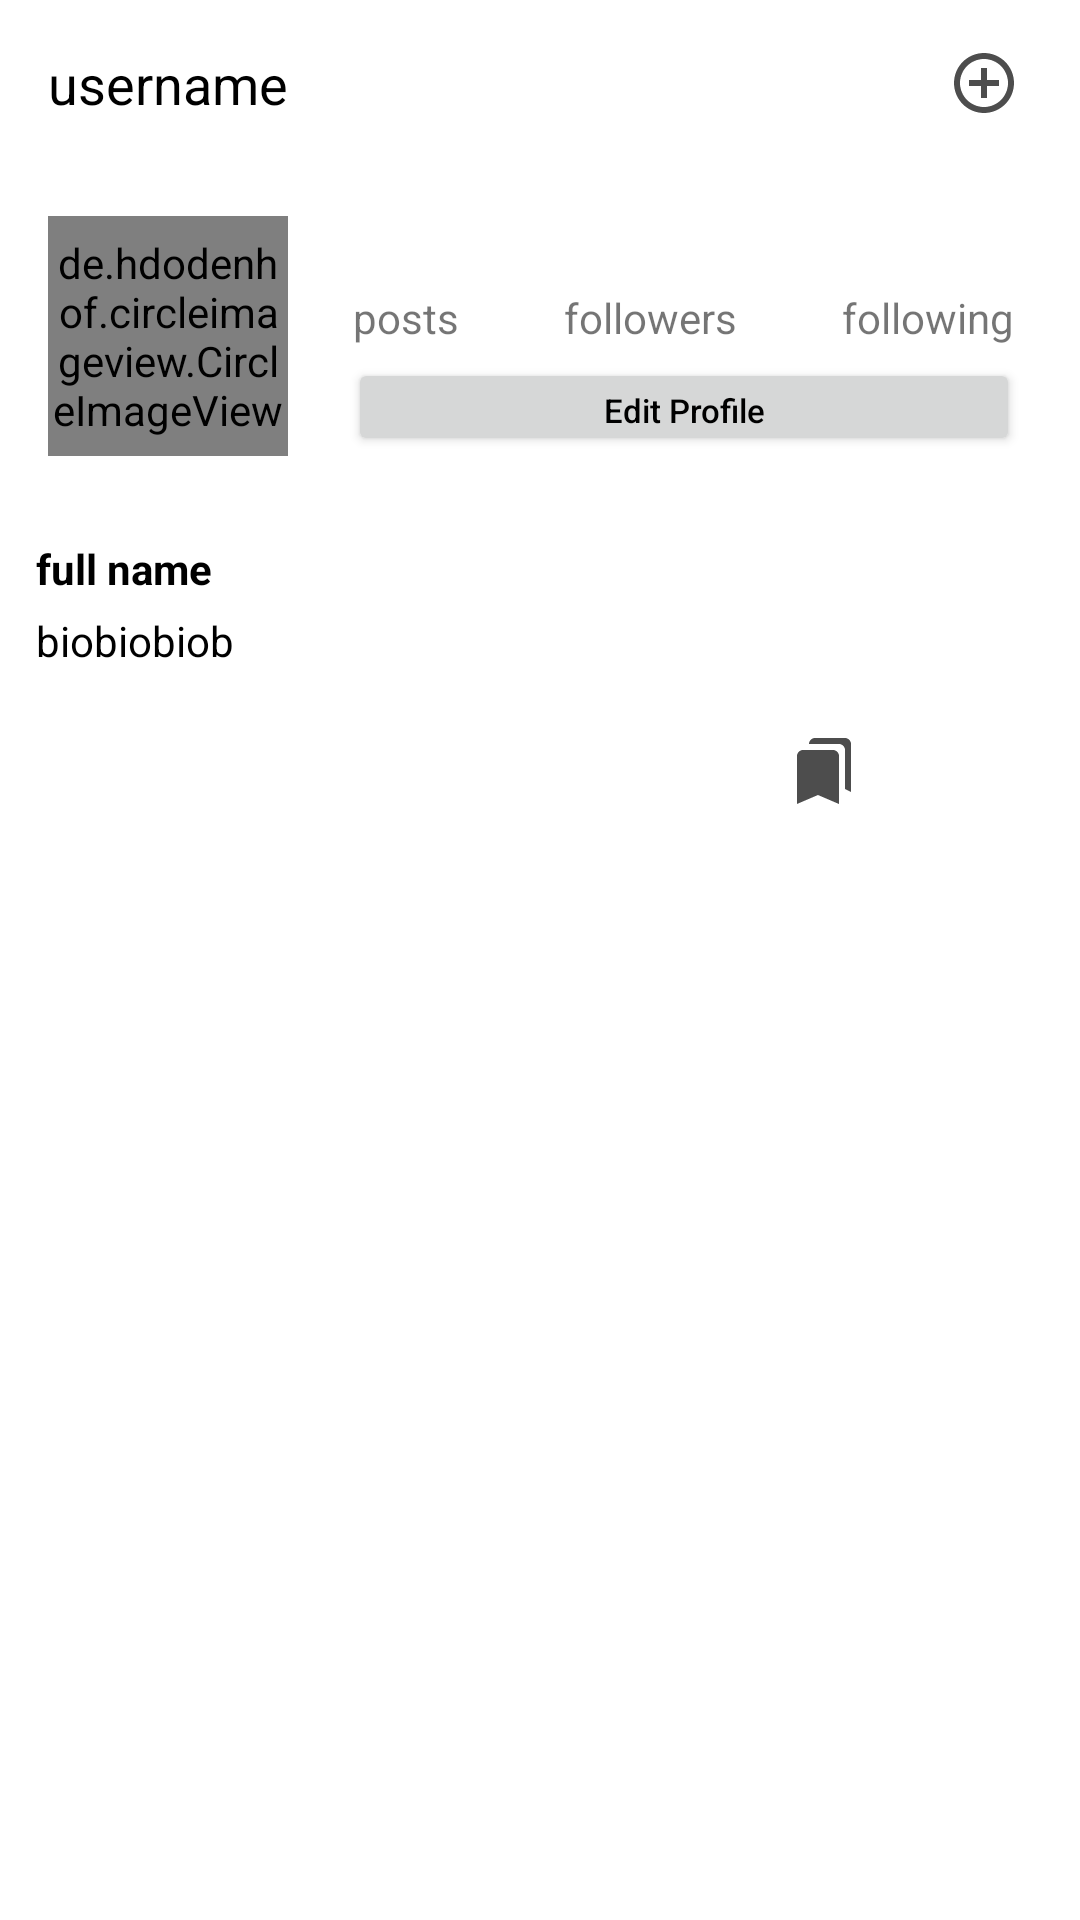

Locate icon controls on the screen. Image size 1080w x 1920h, boxes as (x1, y1, x2, y2).
addbut: (954, 53, 1014, 113)
save: (797, 738, 851, 804)
